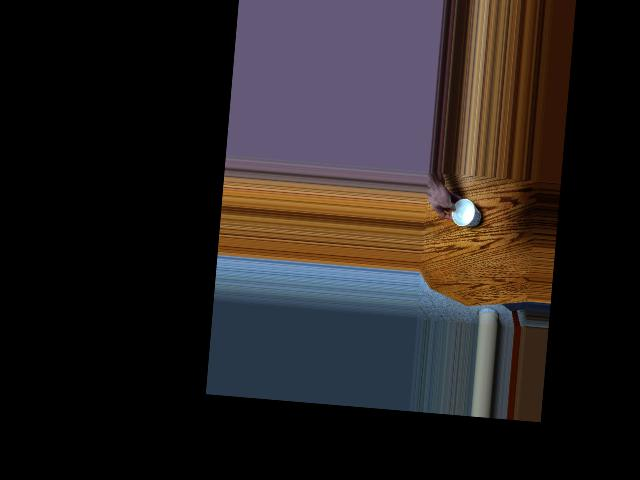cotage: (446, 197, 479, 229)
